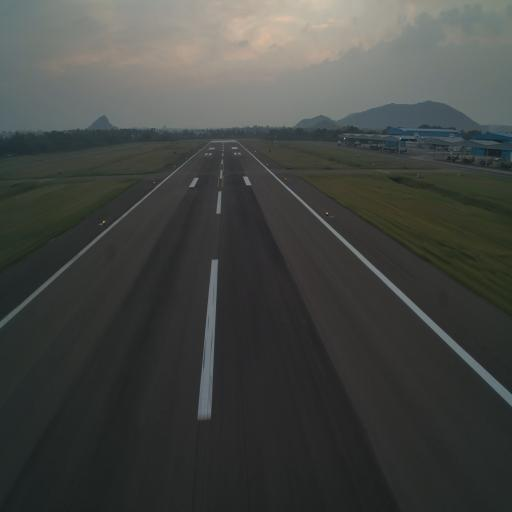on: (102, 217, 106, 226), (325, 209, 329, 217)
